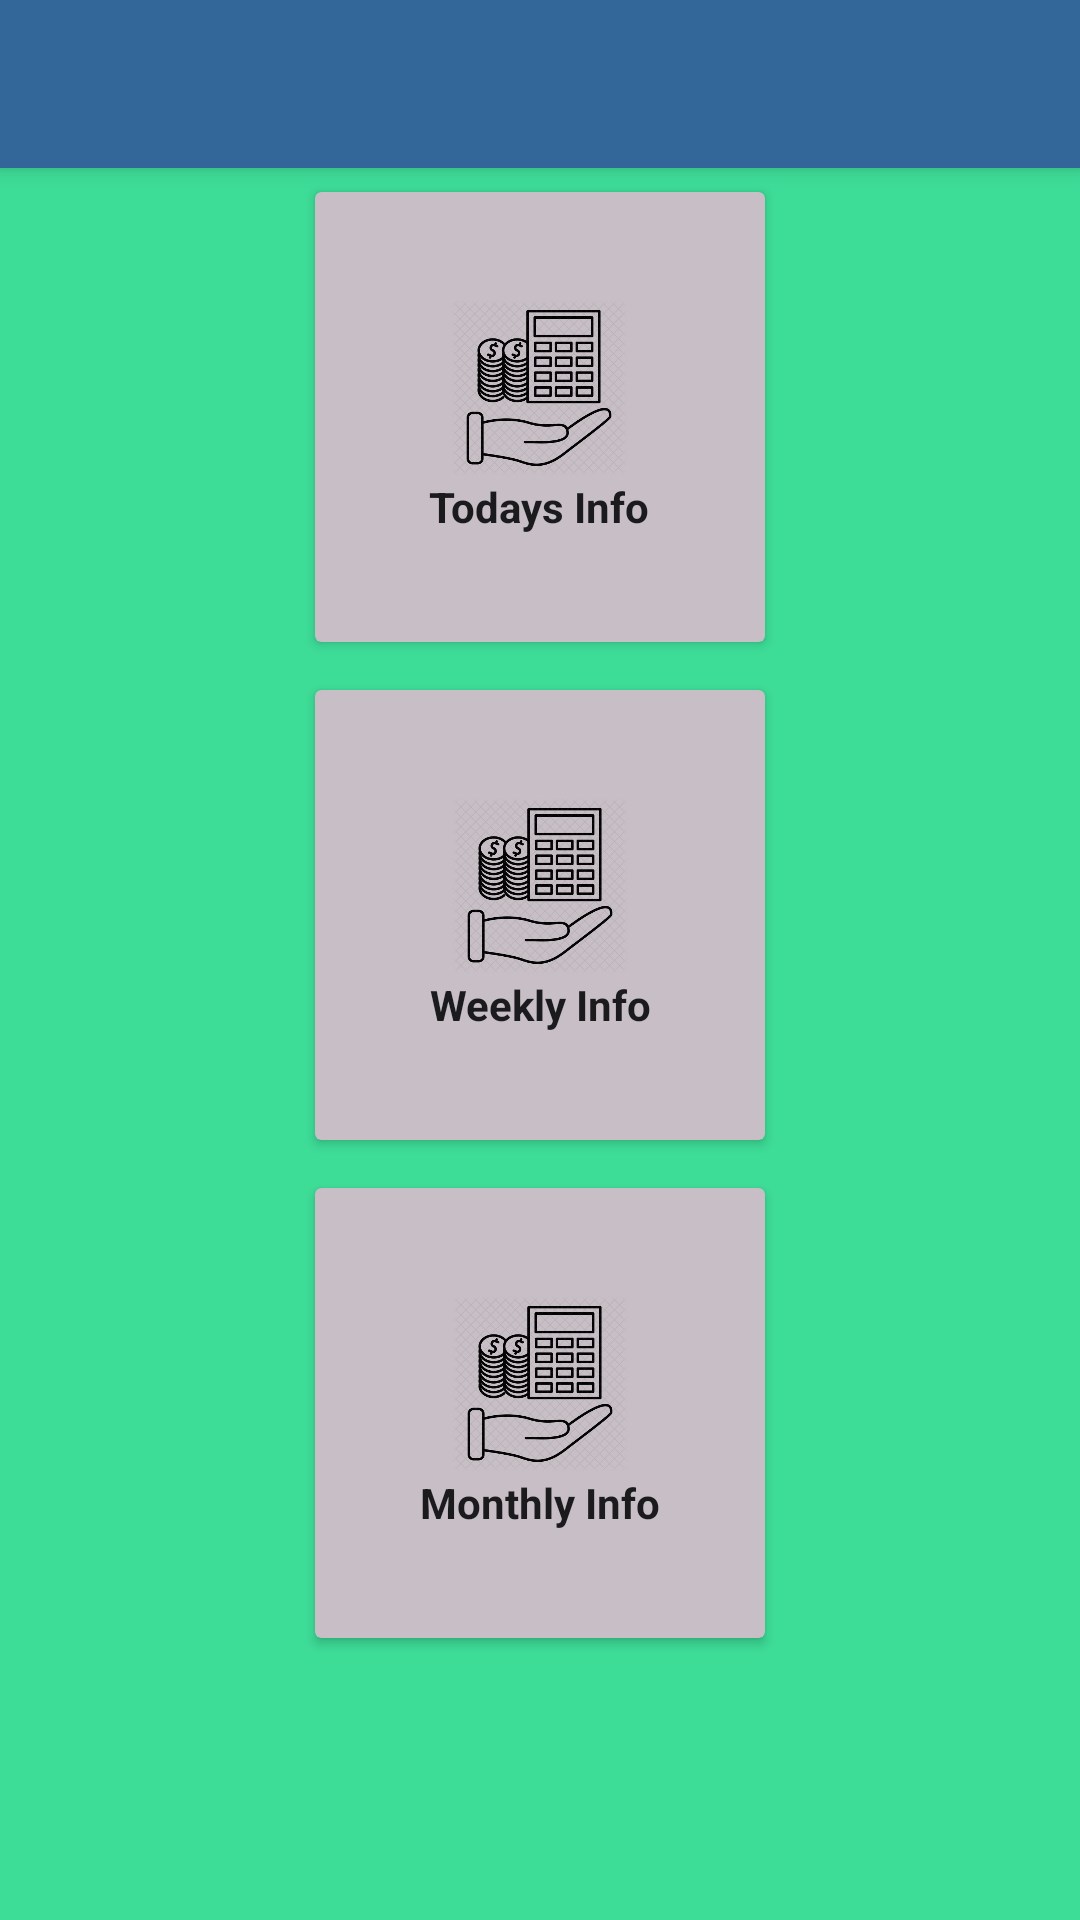

Named icons in this screenshot (1080 x 1920) and their centers, (x,y):
budget: (539,388), (540,886), (540,1384)
